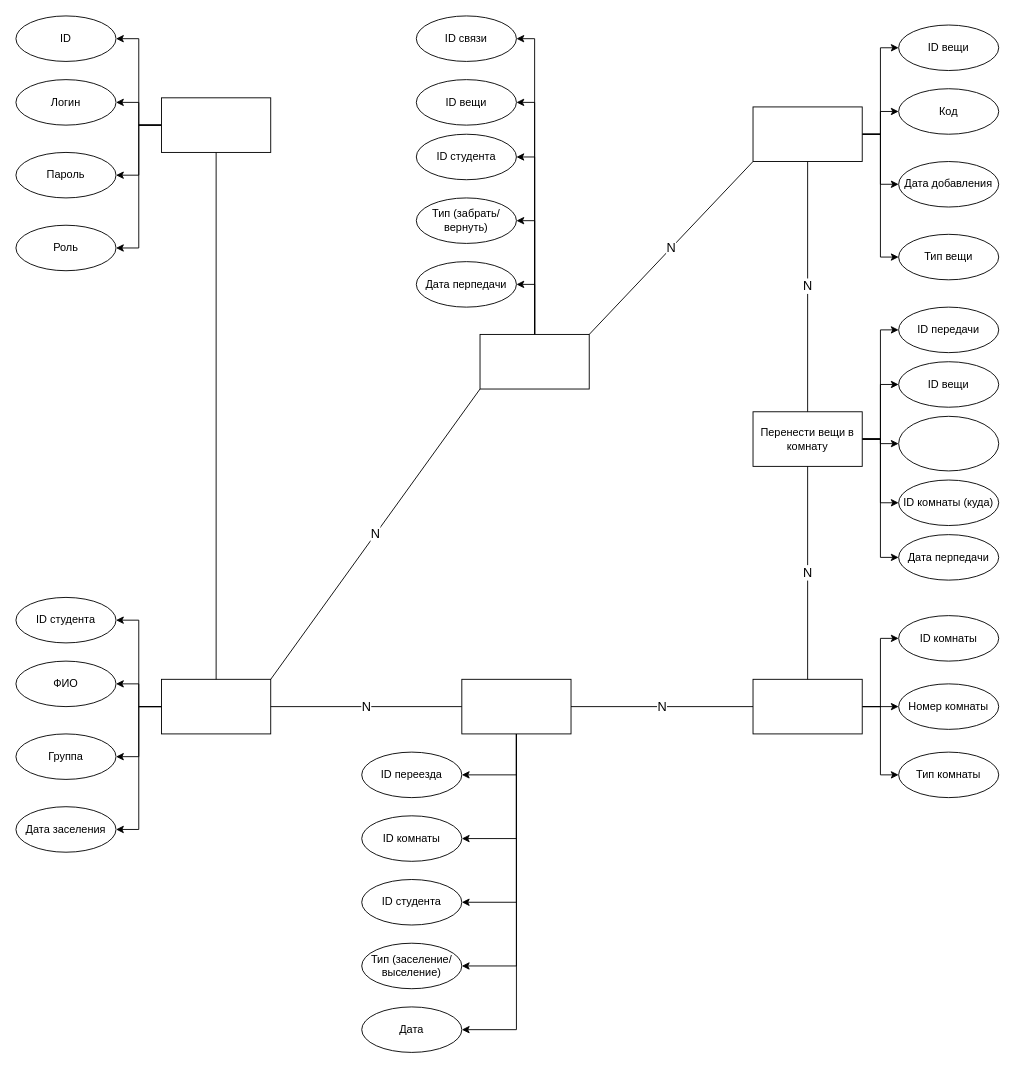
Image size: 1015x1068. Some labels were removed from this diagram. The centre of each missing label's shape, as x and y in pixels:
"ID комнаты (откуда)" goes at point 948,443.
"Вещь" goes at point 807,134.
"Комната" goes at point 807,706.
"Переезда студента" goes at point 516,706.
"Пользователь" goes at point 216,124.
"Студент" goes at point 216,706.
"Студент и вещь" goes at point 534,361.
